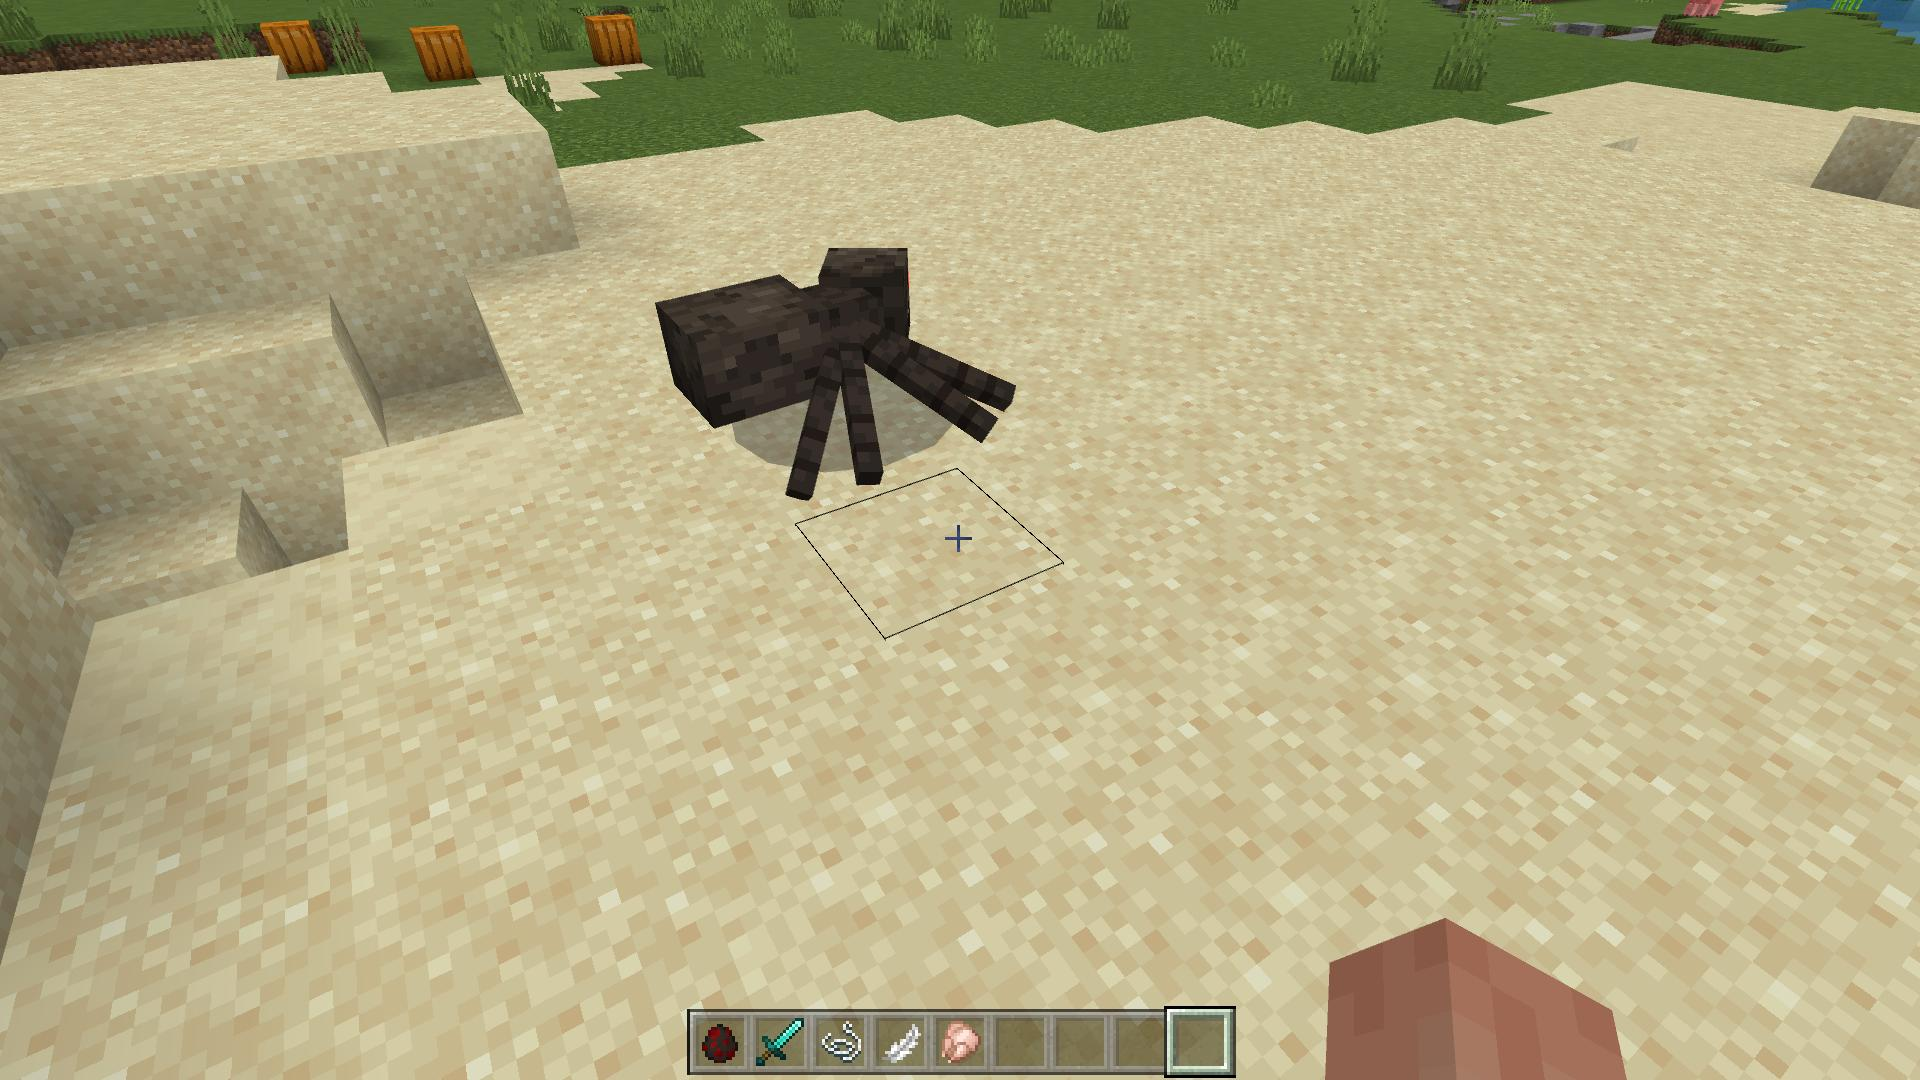spider: (642, 244, 1015, 493)
